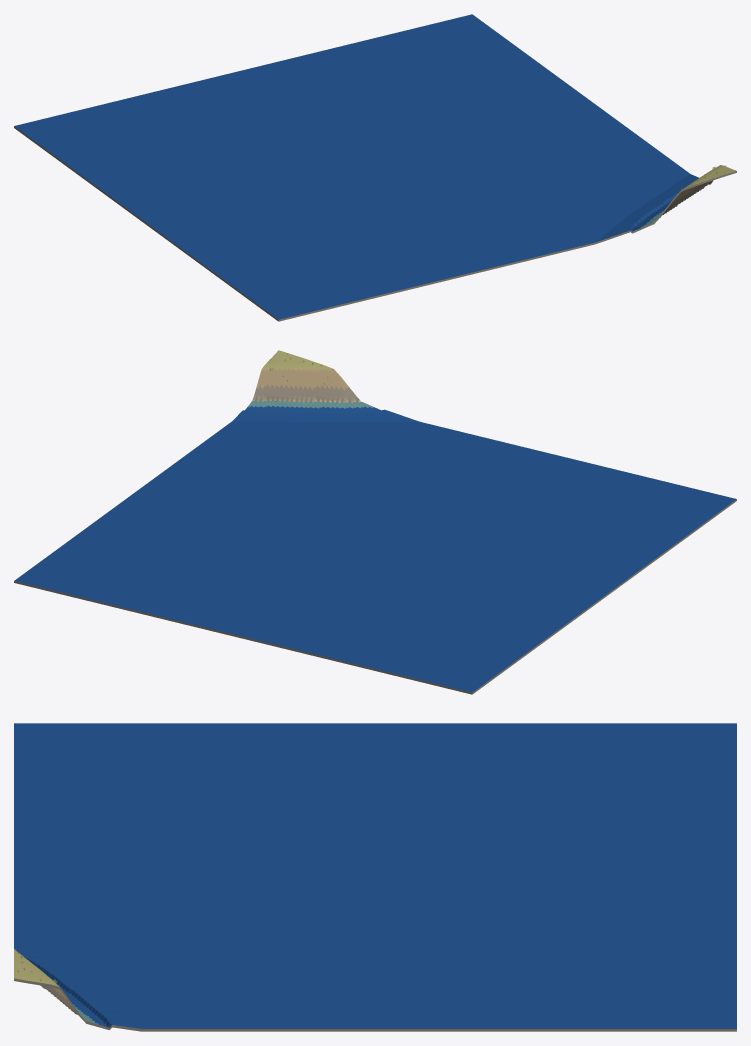
The model's file is parca_-3_-1-yakin.glb.
The picture shows the model from 3 angles, top to bottom: view 1: azimuth 30°, elevation 25°; view 2: azimuth 150°, elevation 25°; view 3: azimuth 270°, elevation 25°; orthographic projection. The views are drawn at different scales.
Parts seen in each view (by area): view 1: parca_-3_-1_arazi; view 2: parca_-3_-1_arazi; view 3: parca_-3_-1_arazi.
Part boxes in pixels (bbox=[...]): parca_-3_-1_arazi: bbox=[14, 14, 736, 321]; parca_-3_-1_arazi: bbox=[14, 350, 736, 694]; parca_-3_-1_arazi: bbox=[14, 723, 736, 1031].
Bounding box in the file's own units: 1000 × 81.78 × 1000.
